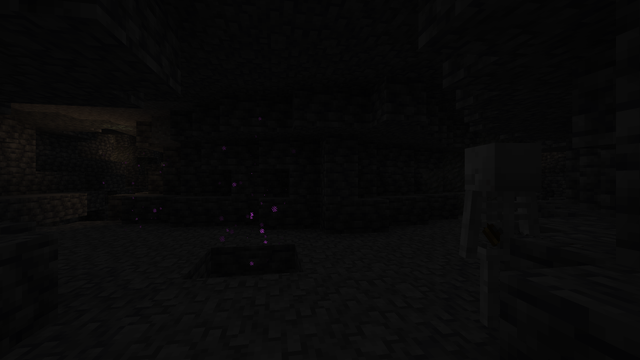squelettes: (457, 142, 549, 342)
